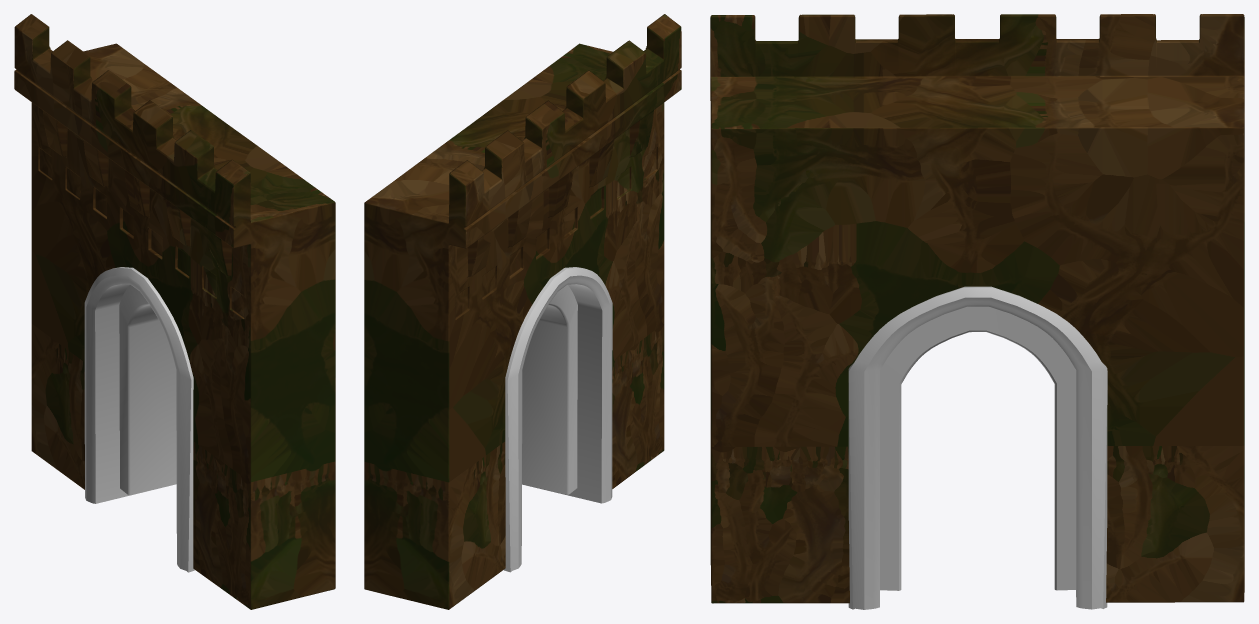
File: Castle_Main.fbx
The picture shows the model from 3 angles, left to right: view 1: azimuth 30°, elevation 25°; view 2: azimuth 150°, elevation 25°; view 3: azimuth 270°, elevation 25°; orthographic projection. The views are drawn at different scales.
Visible parts, largest first — view 1: Castle_Main, Castle_Arch; view 2: Castle_Main, Castle_Arch; view 3: Castle_Main, Castle_Arch.
Boxes of the visible parts, x1=… form: Castle_Main: x1=14, y1=14, x2=335, y2=609; Castle_Arch: x1=84, y1=267, x2=194, y2=572; Castle_Main: x1=364, y1=14, x2=681, y2=609; Castle_Arch: x1=504, y1=267, x2=612, y2=572; Castle_Main: x1=710, y1=14, x2=1244, y2=603; Castle_Arch: x1=848, y1=286, x2=1107, y2=609.
Size of the model in its own units: 156 by 597 by 532.
